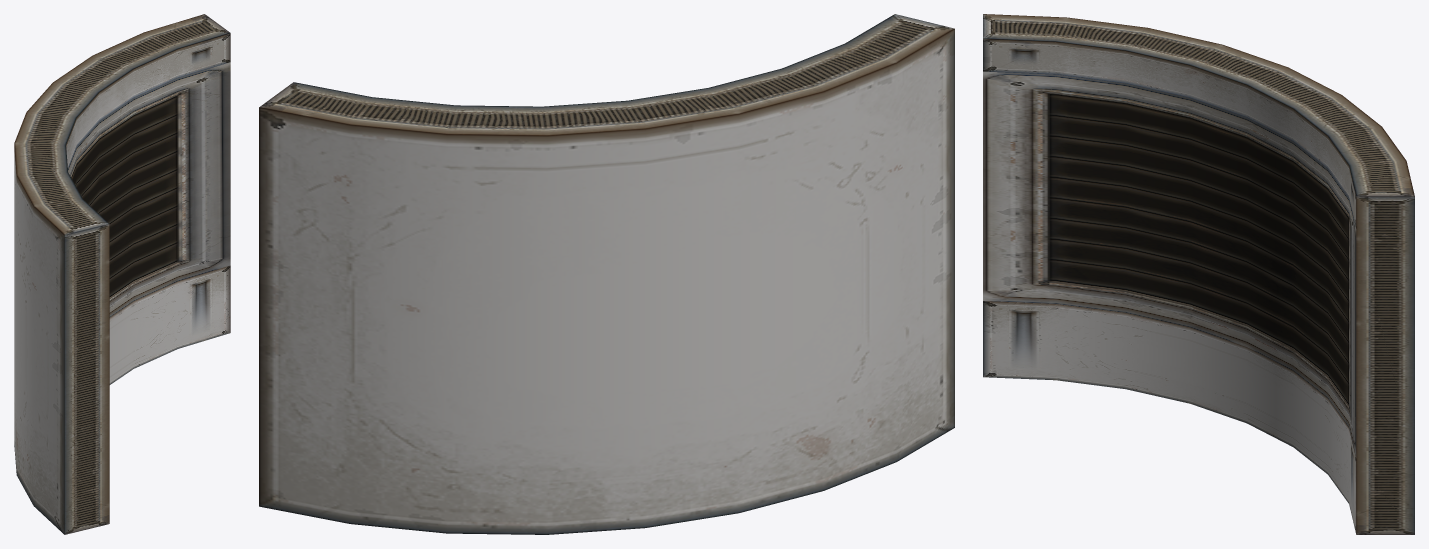
File: scifi_wall_curve2_5.FBX
3 renders of one model, left to right at view 1: azimuth 30°, elevation 25°; view 2: azimuth 150°, elevation 25°; view 3: azimuth 270°, elevation 25°, orthographic. The views are drawn at different scales.
Parts seen in each view (by area): view 1: Plane108; view 2: Plane108; view 3: Plane108.
Part boxes in pixels (<box>): Plane108: <box>14,14,230,534</box>; Plane108: <box>259,14,954,534</box>; Plane108: <box>983,14,1414,534</box>.
Size of the model in its own units: 294 by 254 by 294.
